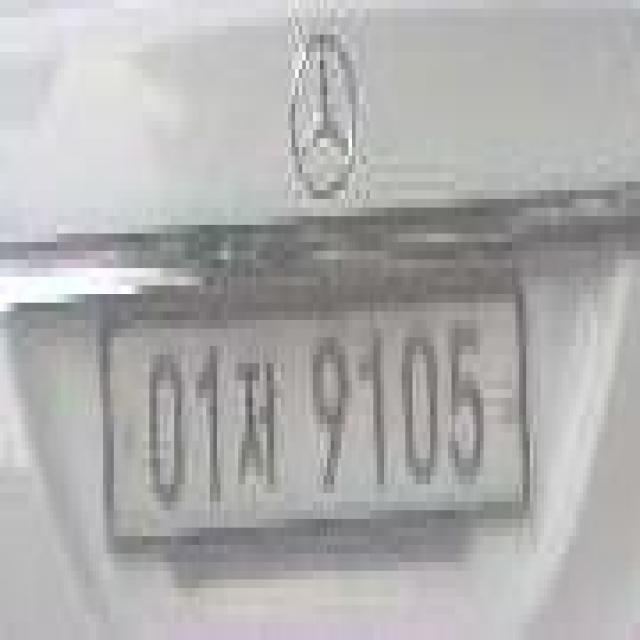illegal_plate: (97, 292, 531, 570)
